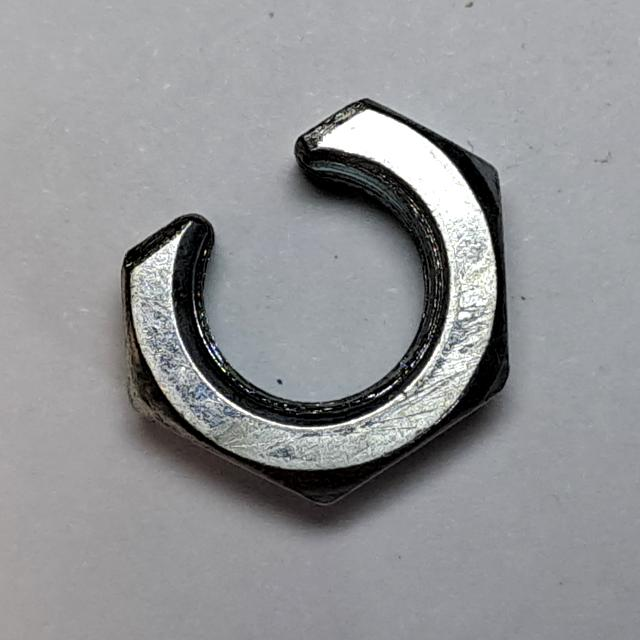Fracture: (115, 79, 533, 523)
